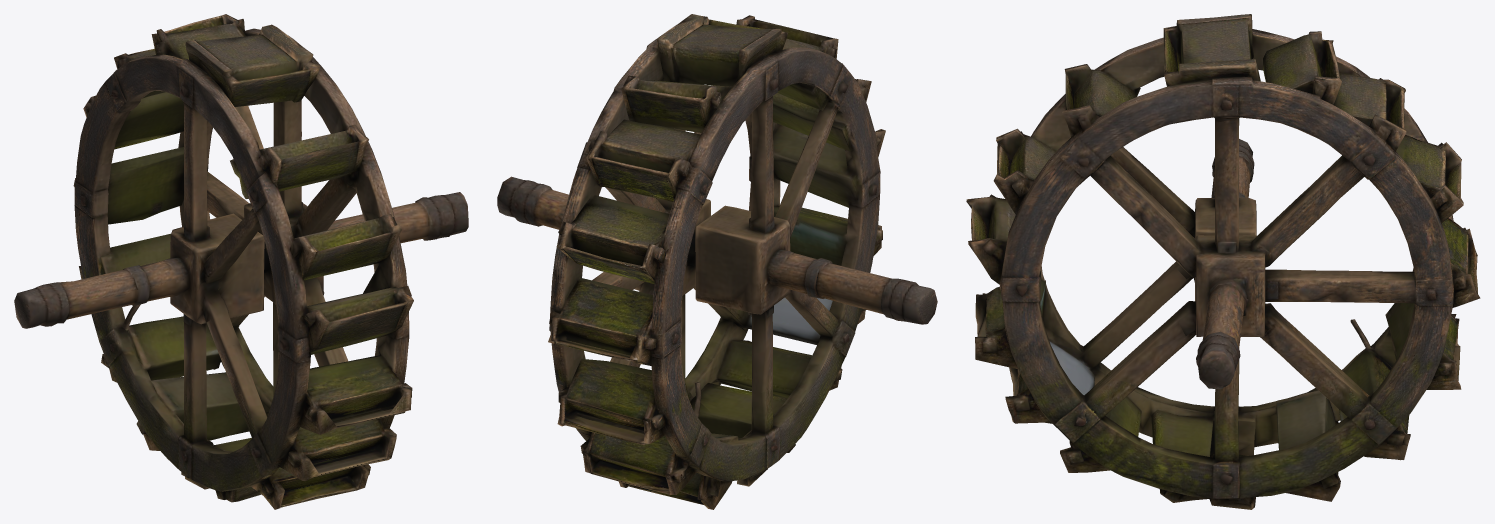
File: waterwheel.glb
3 views of the same model, side by side, from view 1: azimuth 30°, elevation 25°; view 2: azimuth 150°, elevation 25°; view 3: azimuth 270°, elevation 25° (orthographic). The views are drawn at different scales.
Parts seen in each view (by area): view 1: tripo_node_a69f70f6-f472-4664-8ade-503e70797848; view 2: tripo_node_a69f70f6-f472-4664-8ade-503e70797848; view 3: tripo_node_a69f70f6-f472-4664-8ade-503e70797848.
Part boxes in pixels (left/top/right/bottom): tripo_node_a69f70f6-f472-4664-8ade-503e70797848: left=14, top=14, right=468, bottom=509; tripo_node_a69f70f6-f472-4664-8ade-503e70797848: left=497, top=14, right=937, bottom=509; tripo_node_a69f70f6-f472-4664-8ade-503e70797848: left=966, top=14, right=1480, bottom=509.
Bounding box in the file's own units: 2.7 × 2.6 × 2.69.
Materials: 1 (1 with a texture image).
